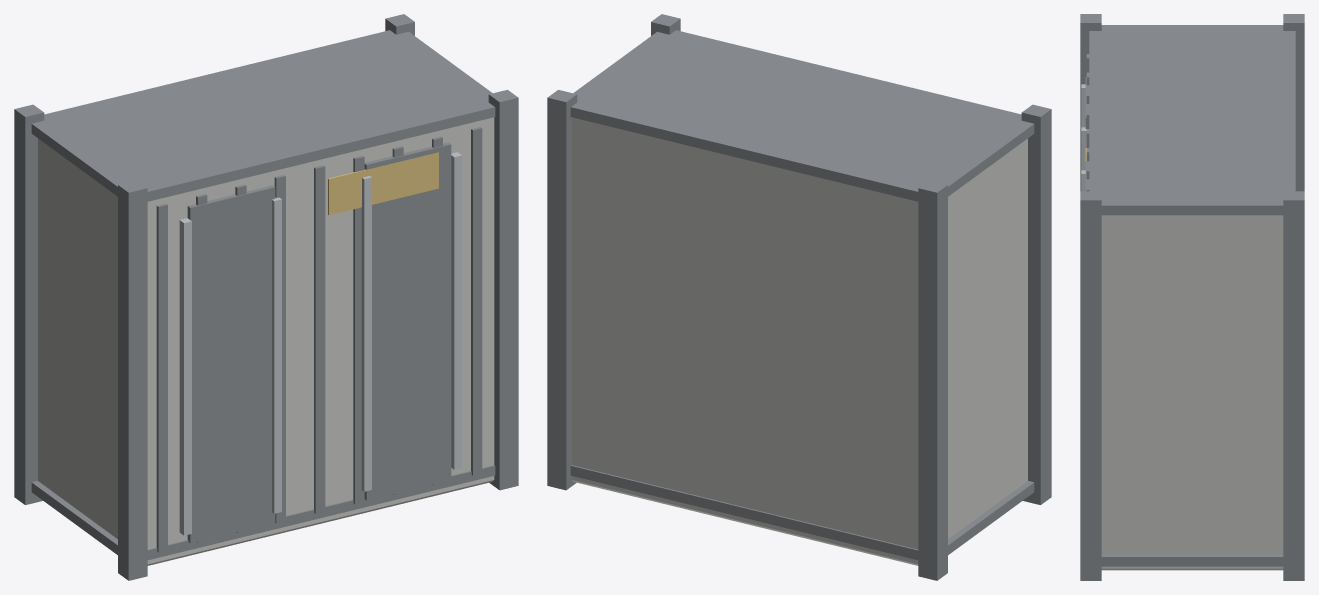
The model's file is P_container.fbx.
3 renders of one model, left to right at view 1: azimuth 30°, elevation 25°; view 2: azimuth 150°, elevation 25°; view 3: azimuth 270°, elevation 25°, orthographic. The views are drawn at different scales.
Visible parts, largest first — view 1: P_container; view 2: P_container; view 3: P_container.
Part boxes in pixels (x1,y1,x2,y2): P_container: (14,14,518,580); P_container: (547,14,1051,580); P_container: (1080,14,1304,580).
Bounding box in the file's own units: 2.48 × 2.36 × 1.26.
